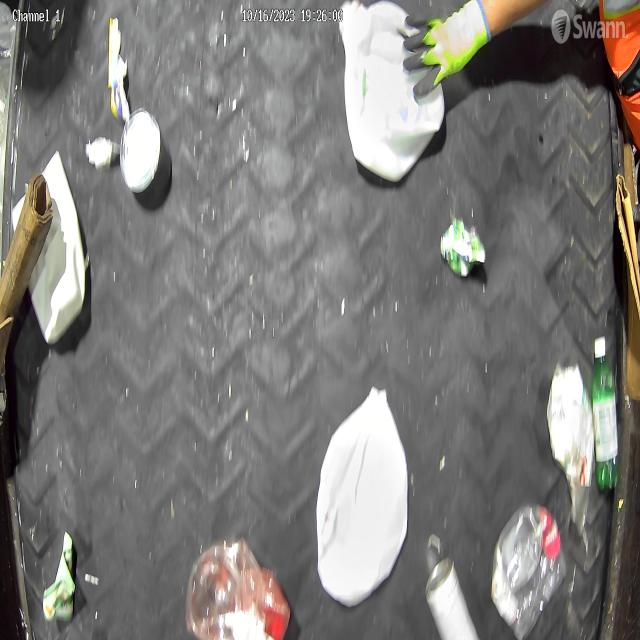can: (119, 107, 173, 212), (424, 553, 482, 640), (438, 215, 488, 278)
milk_jug: (314, 382, 410, 612), (336, 0, 446, 186)
